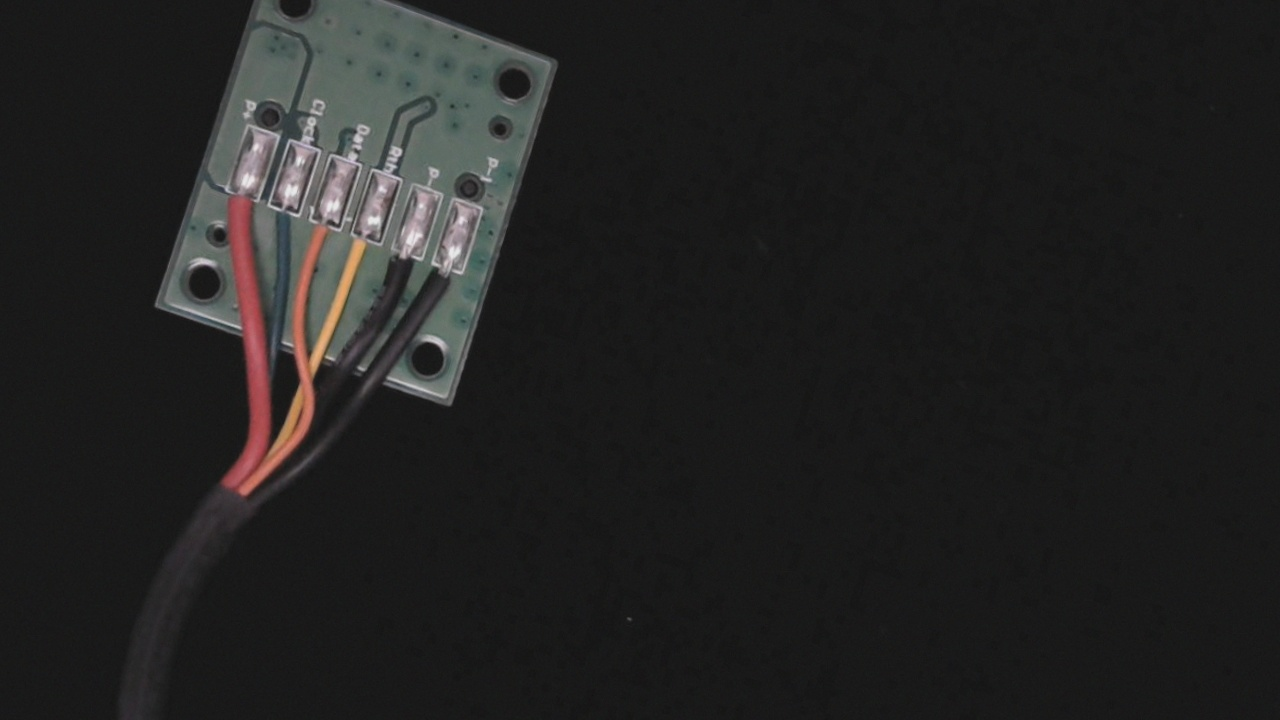Black: (373, 233, 424, 309)
Black1: (415, 249, 468, 322)
Green: (253, 190, 308, 259)
Orange: (295, 204, 346, 277)
Red: (208, 176, 264, 249)
Yellow: (331, 219, 386, 297)
